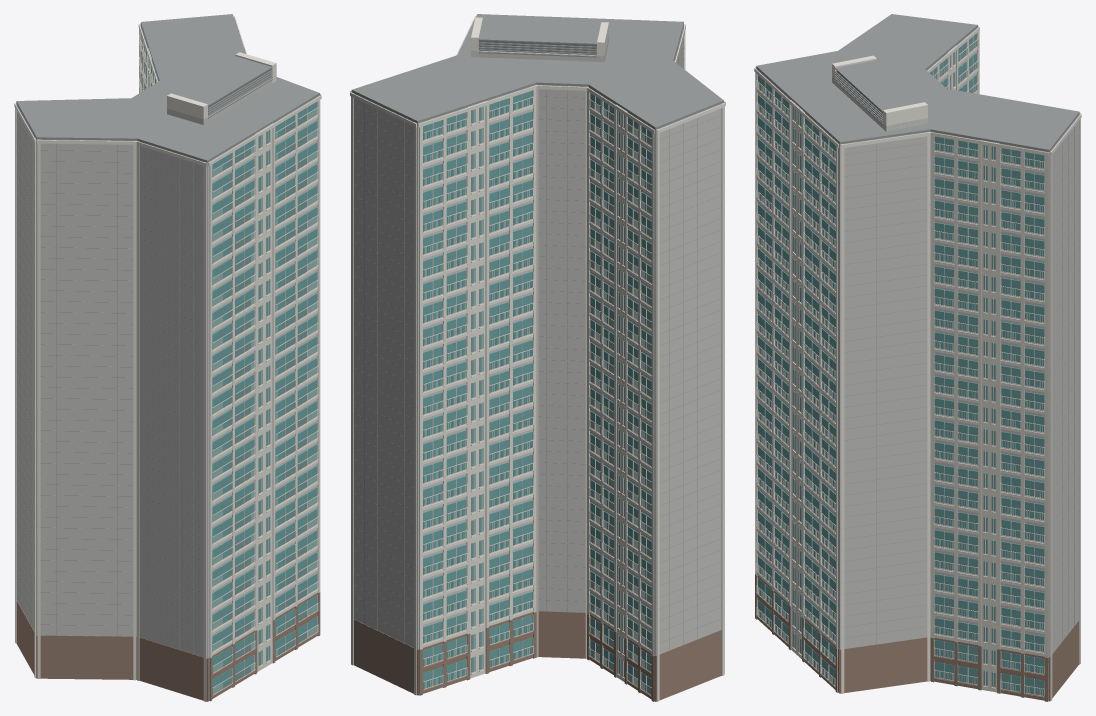
Rendered from bespoke-jamsil-els-124.glb.
3 views of the same model, side by side, from view 1: azimuth 30°, elevation 25°; view 2: azimuth 150°, elevation 25°; view 3: azimuth 270°, elevation 25° (orthographic). The views are drawn at different scales.
Parts seen in each view (by area): view 1: Els124_editable_Els124_light_grey_solid_wall, Els124_white_exact_chunk_1, Els124_editable_Els124_turquoise_balcony_glazing, Els124_editable_Els124_modest_grey_flat_roof_caps, Els124_white_exact_chunk_2, Els124_editable_Els124_muted_ground_wall, Els124_white_exact_chunk_4; view 2: Els124_editable_Els124_light_grey_solid_wall, Els124_editable_Els124_turquoise_balcony_glazing, Els124_editable_Els124_modest_grey_flat_roof_caps, Els124_white_exact_chunk_4, Els124_white_exact_chunk_0, Els124_white_exact_chunk_3, Els124_editable_Els124_muted_ground_wall, Els124_white_exact_chunk_1, Els124_editable_Els124_narrow_charcoal_service_strips; view 3: Els124_editable_Els124_light_grey_solid_wall, Els124_editable_Els124_turquoise_balcony_glazing, Els124_white_exact_chunk_2, Els124_white_exact_chunk_3, Els124_editable_Els124_modest_grey_flat_roof_caps, Els124_white_exact_chunk_1, Els124_editable_Els124_muted_ground_wall, Els124_white_exact_chunk_4, Els124_white_exact_chunk_0.
Boxes of the visible parts, x1,y1,x2,y2 form: Els124_editable_Els124_light_grey_solid_wall: (16,25,319,658); Els124_white_exact_chunk_1: (14,103,295,701); Els124_editable_Els124_turquoise_balcony_glazing: (140,28,317,694); Els124_editable_Els124_modest_grey_flat_roof_caps: (16,14,319,657); Els124_white_exact_chunk_2: (208,94,321,662); Els124_editable_Els124_muted_ground_wall: (16,592,320,701); Els124_white_exact_chunk_4: (138,24,276,121); Els124_editable_Els124_light_grey_solid_wall: (352,24,723,659); Els124_editable_Els124_turquoise_balcony_glazing: (423,90,651,694); Els124_editable_Els124_modest_grey_flat_roof_caps: (351,14,723,654); Els124_white_exact_chunk_4: (418,17,608,694); Els124_white_exact_chunk_0: (587,87,651,695); Els124_white_exact_chunk_3: (350,91,486,695); Els124_editable_Els124_muted_ground_wall: (354,611,721,701); Els124_white_exact_chunk_1: (587,24,725,701); Els124_editable_Els124_narrow_charcoal_service_strips: (479,40,596,53); Els124_editable_Els124_light_grey_solid_wall: (756,27,1079,670); Els124_editable_Els124_turquoise_balcony_glazing: (758,33,1044,695); Els124_white_exact_chunk_2: (754,68,999,693); Els124_white_exact_chunk_3: (930,114,1081,701); Els124_editable_Els124_modest_grey_flat_roof_caps: (756,14,1079,652); Els124_white_exact_chunk_1: (755,26,979,671); Els124_editable_Els124_muted_ground_wall: (755,574,1078,701); Els124_white_exact_chunk_4: (832,55,1080,130); Els124_white_exact_chunk_0: (932,42,978,93).
Bounding box in the file's own units: 35.39 × 68.35 × 35.58.
